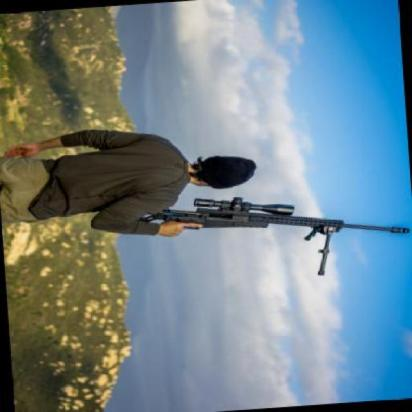Gun: (140, 180, 412, 280)
